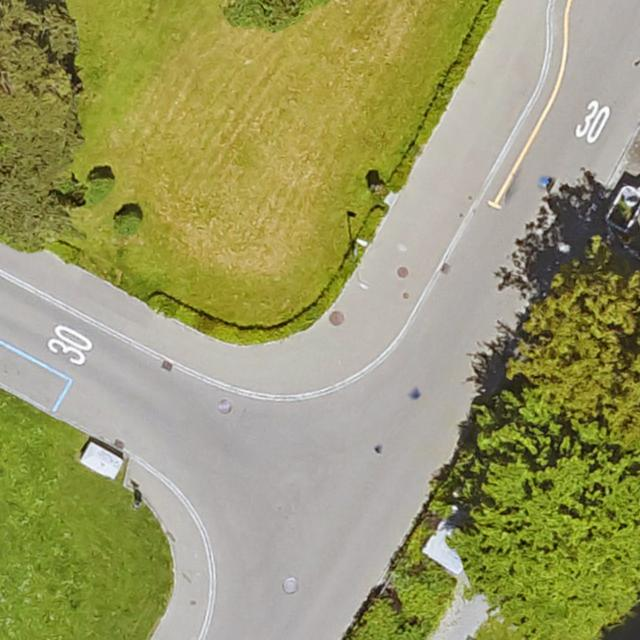tree: (450, 417, 640, 638), (511, 256, 640, 443), (0, 0, 80, 243), (199, 0, 333, 30)
